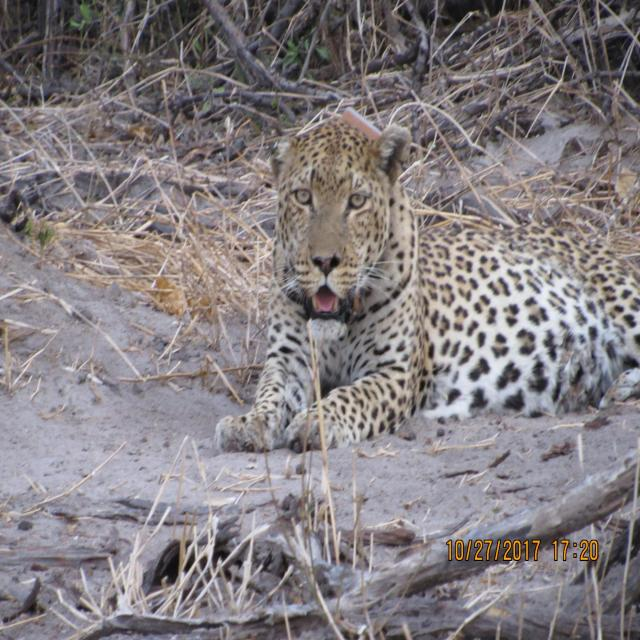Leopard: (209, 99, 640, 456)
